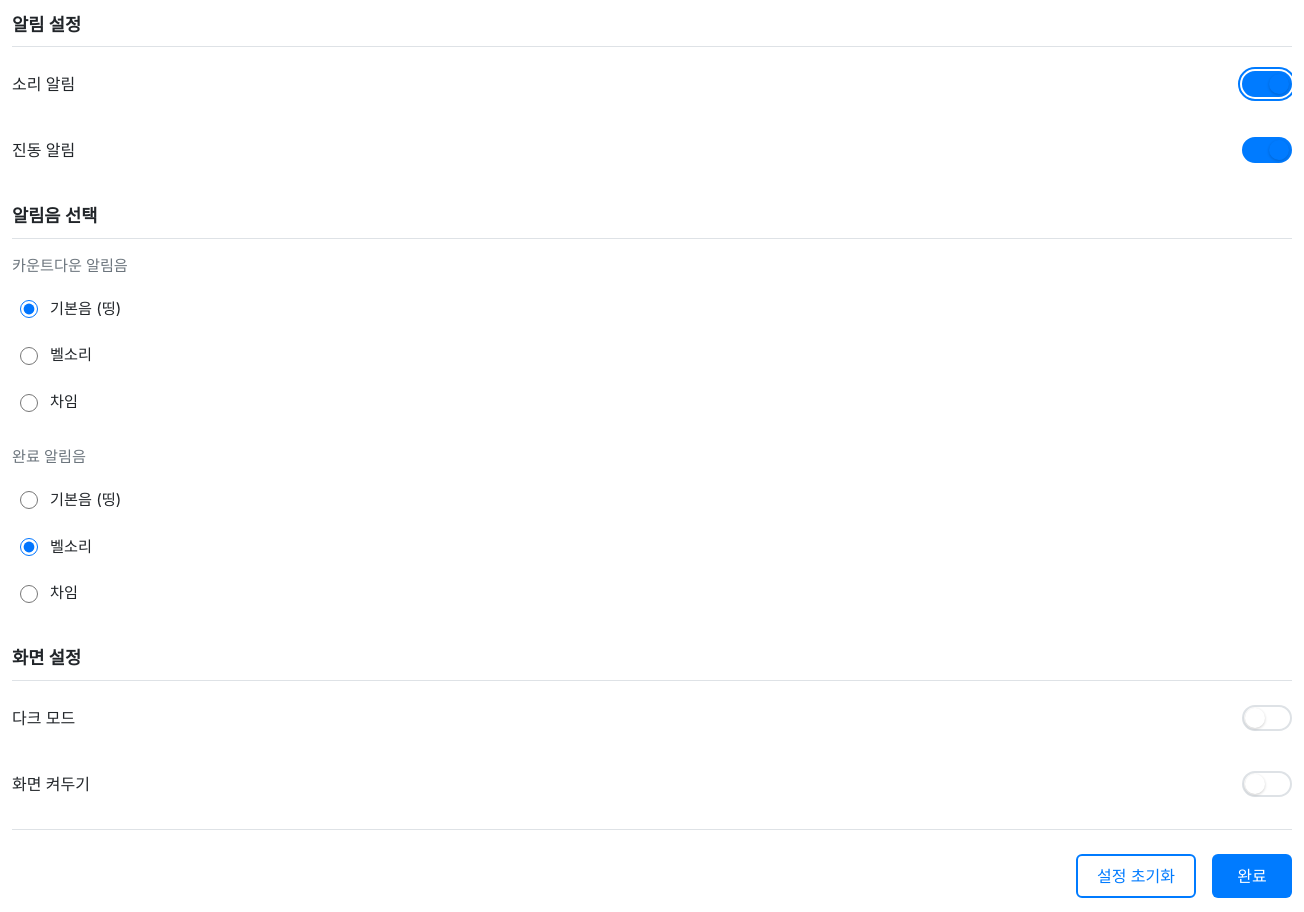
Settings Component › handles keyboard navigation properly
Press Enter to activate
Press Enter in the switch named "소리 알림 끄기", box [1242, 71, 1292, 97]
Click the switch named "소리 알림 끄기" at (1267, 84), box [1242, 71, 1292, 97]
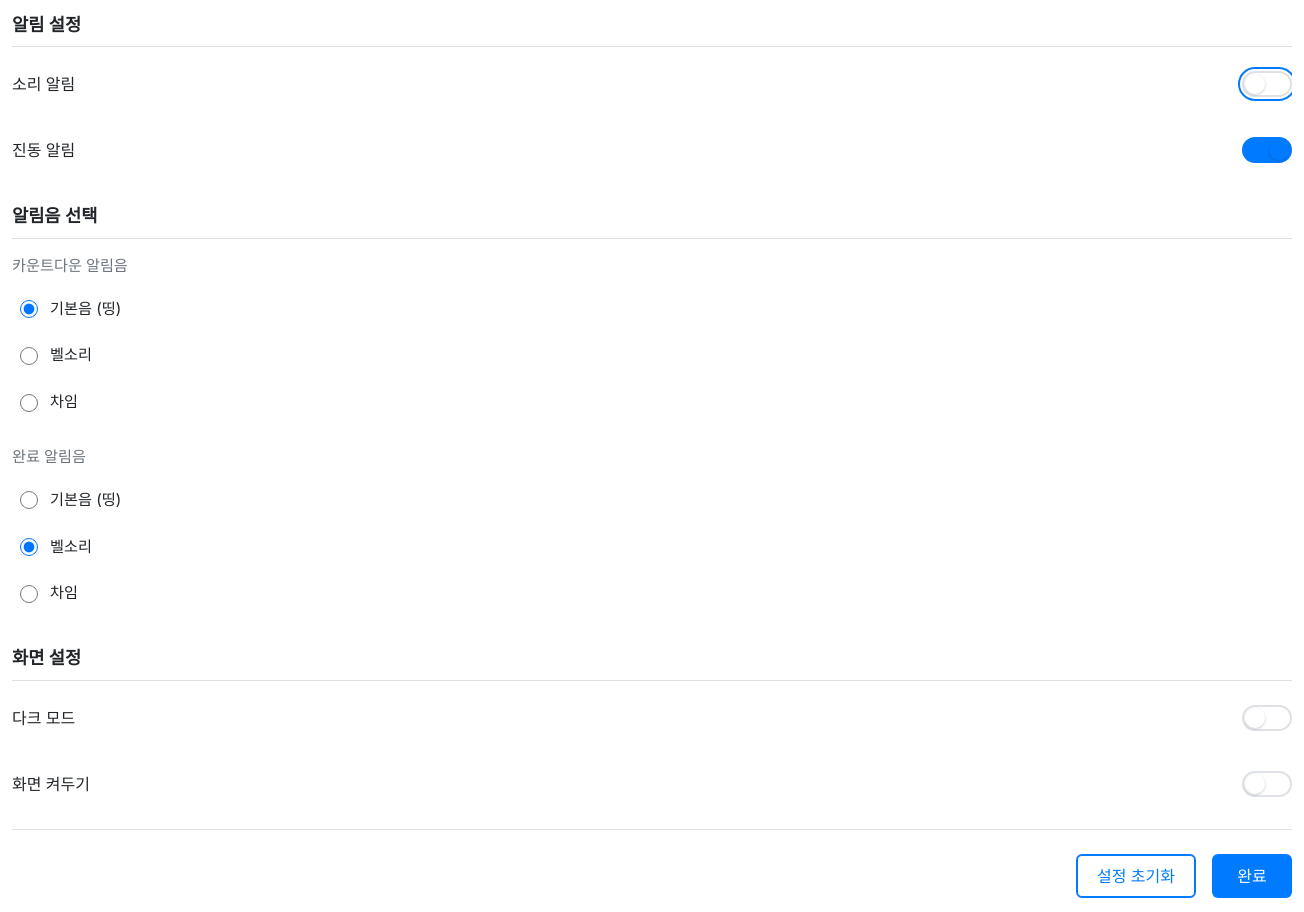
Now the switch named "소리 알림 켜기" is shown, box [1242, 71, 1292, 97]
